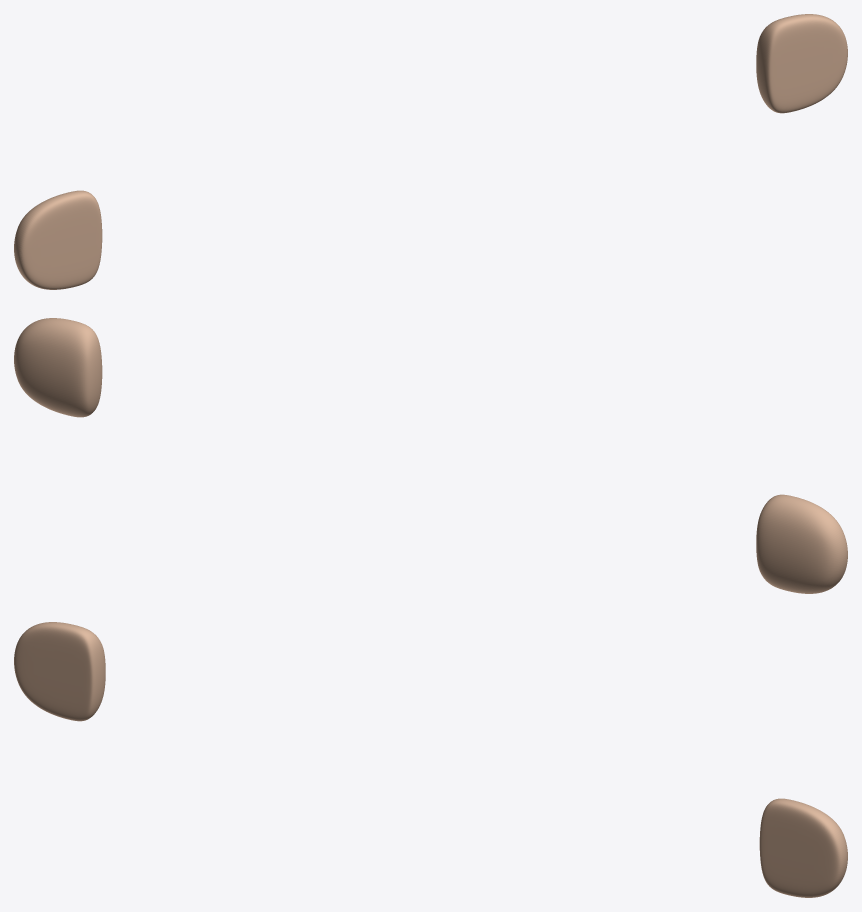
Rendered from OREJAS_M.glb.
3 views of the same model, one above another, from view 1: azimuth 30°, elevation 25°; view 2: azimuth 150°, elevation 25°; view 3: azimuth 330°, elevation 25° (orthographic).
Visible parts, largest first — view 1: Cube.069; view 2: Cube.069; view 3: Cube.069.
Part boxes in pixels (<box>): Cube.069: <box>14,14,847,289</box>; Cube.069: <box>14,318,847,593</box>; Cube.069: <box>14,622,847,897</box>.
Bounding box in the file's own units: 2.34 × 0.2492 × 0.0841.
